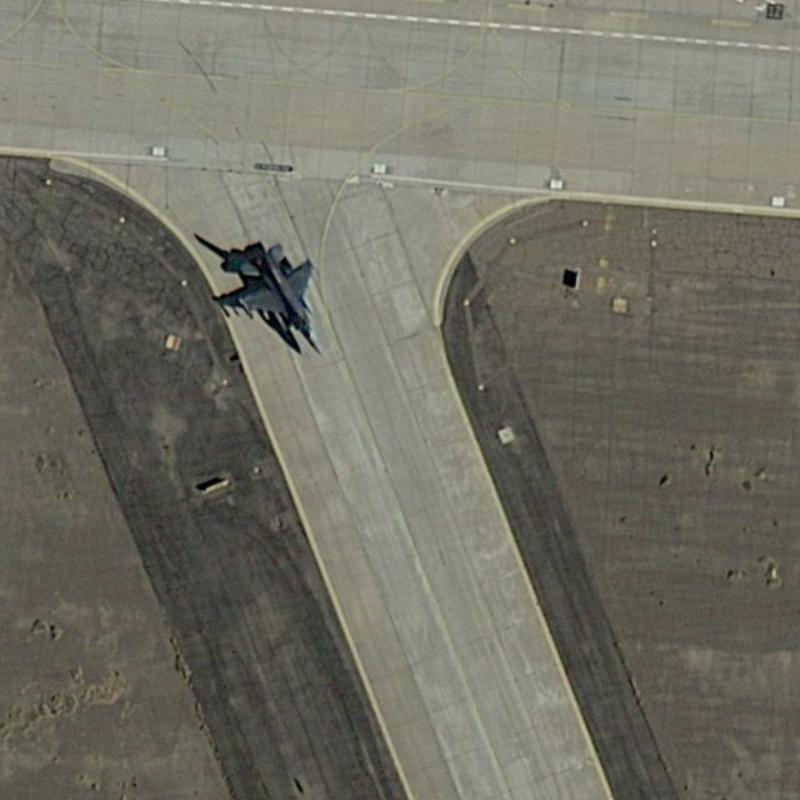A5: (222, 233, 334, 361)
